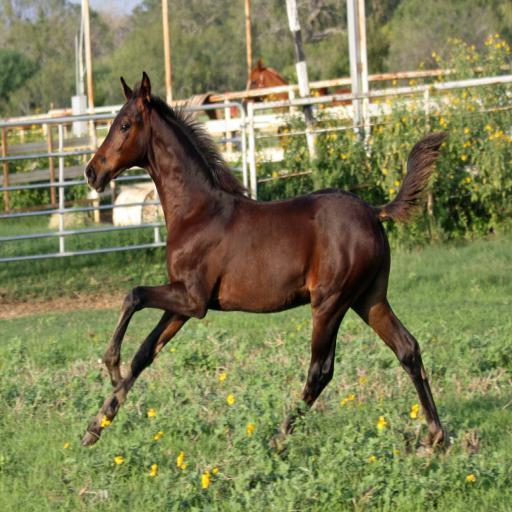horse: (79, 69, 449, 449)
